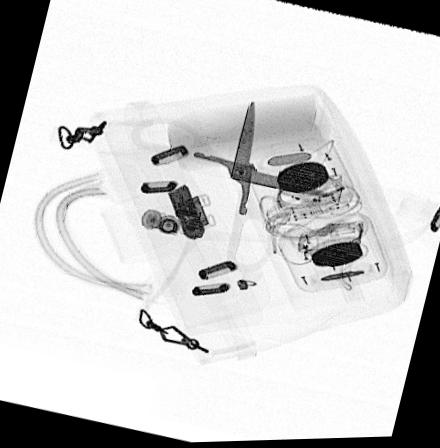Scissors: (127, 101, 336, 271)
